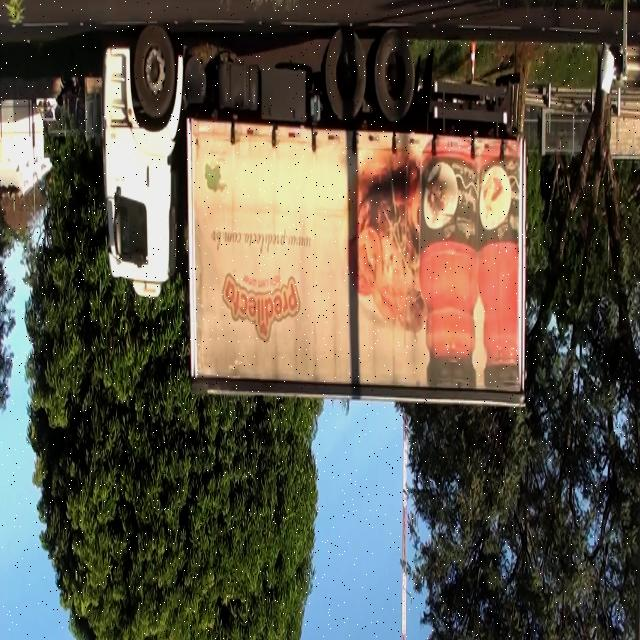-axle: (324, 25, 369, 124), (134, 24, 175, 119), (375, 28, 412, 122)
